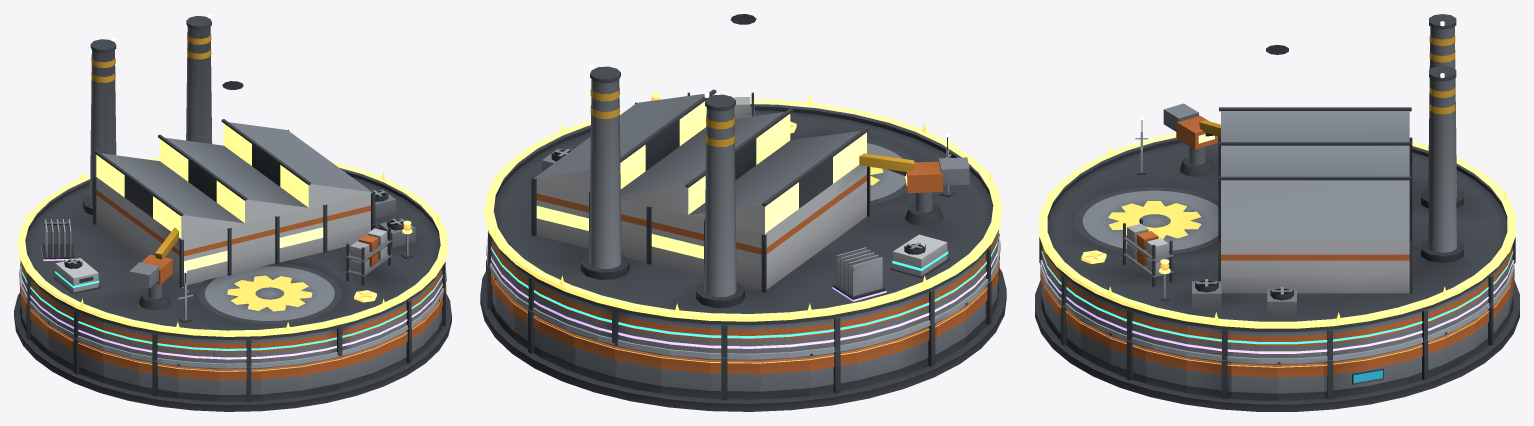
The model's file is workshop_m.glb.
3 renders of one model, left to right at view 1: azimuth 30°, elevation 25°; view 2: azimuth 150°, elevation 25°; view 3: azimuth 270°, elevation 25°, orthographic. The views are drawn at different scales.
Visible parts, largest first — view 1: Roof, Base, Wall_21, Wall_22, Wall_20, Wall_19, Wall_23, L3, Wall_18, Wall_24, Wall_17, L4 (+19 smaller); view 2: Roof, Base, L4, Wall_10, Wall_11, Wall_09, Wall_12, Wall_08, L3, Wall_13, Wall_07, Wall_14 (+21 smaller); view 3: Roof, Base, Wall_00, Wall_31, Wall_30, Wall_29, Wall_01, Wall_02, Wall_28, Wall_03, Wall_04, Wall_27 (+20 smaller).
Boxes of the visible parts, box(x1,y1,x2,y2) form: Roof: box(21, 14, 443, 339); Base: box(14, 293, 451, 411); Wall_21: box(219, 367, 260, 402); Wall_22: box(260, 363, 301, 400); Wall_20: box(177, 363, 218, 401); Wall_19: box(138, 359, 177, 398); Wall_23: box(301, 356, 339, 396); L3: box(53, 258, 100, 293); Wall_18: box(103, 350, 138, 392); Wall_24: box(339, 346, 373, 389); Wall_17: box(72, 338, 103, 382); L4: box(41, 219, 74, 260); Roof: box(490, 14, 993, 325); Base: box(480, 268, 1006, 411); L4: box(832, 247, 886, 301); Wall_10: box(710, 358, 760, 400); Wall_11: box(760, 356, 809, 398); Wall_09: box(661, 354, 709, 398); Wall_12: box(809, 348, 857, 395); Wall_08: box(615, 343, 661, 393); L3: box(890, 234, 950, 277); Wall_13: box(856, 337, 899, 387); Wall_07: box(574, 333, 615, 384); Wall_14: box(899, 323, 936, 377); Roof: box(1046, 14, 1508, 331); Base: box(1035, 279, 1519, 411); Wall_00: box(1277, 362, 1323, 400); Wall_31: box(1231, 362, 1277, 400); Wall_30: box(1186, 356, 1231, 399); Wall_29: box(1145, 347, 1187, 393); Wall_01: box(1323, 356, 1368, 399); Wall_02: box(1367, 347, 1409, 393); Wall_28: box(1109, 333, 1146, 383); Wall_03: box(1408, 335, 1445, 383); Wall_04: box(1444, 320, 1474, 370); Wall_27: box(1080, 320, 1110, 370).
Bounding box in the file's own units: 14.75 × 8.89 × 14.75.
